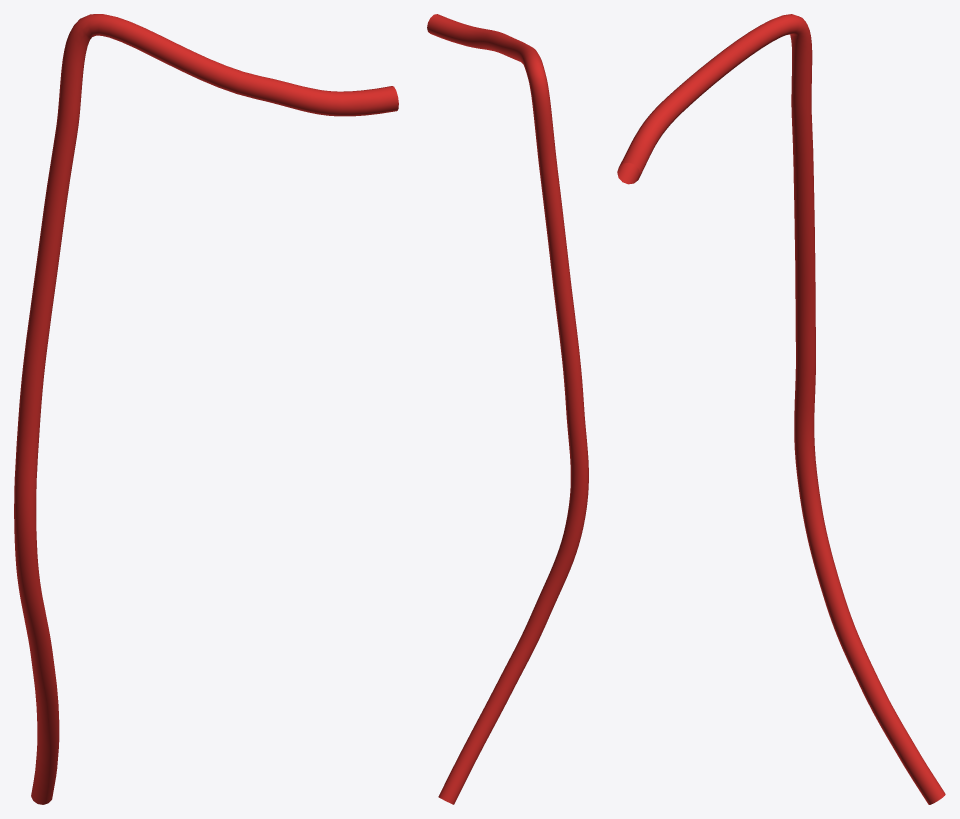
The model's file is circulatorio-septal-branches-of-posterior-ethmoidal-artery-l.glb.
3 renders of one model, left to right at view 1: azimuth 30°, elevation 25°; view 2: azimuth 150°, elevation 25°; view 3: azimuth 270°, elevation 25°, orthographic. The views are drawn at different scales.
Parts seen in each view (by area): view 1: Septal branches of posterior ethmoidal artery.l; view 2: Septal branches of posterior ethmoidal artery.l; view 3: Septal branches of posterior ethmoidal artery.l.
Part boxes in pixels (x1=…): Septal branches of posterior ethmoidal artery.l: x1=14, y1=14, x2=398, y2=804; Septal branches of posterior ethmoidal artery.l: x1=427, y1=14, x2=588, y2=804; Septal branches of posterior ethmoidal artery.l: x1=617, y1=14, x2=945, y2=804.
Bounding box in the file's own units: 0.00893 × 0.0255 × 0.00977.
